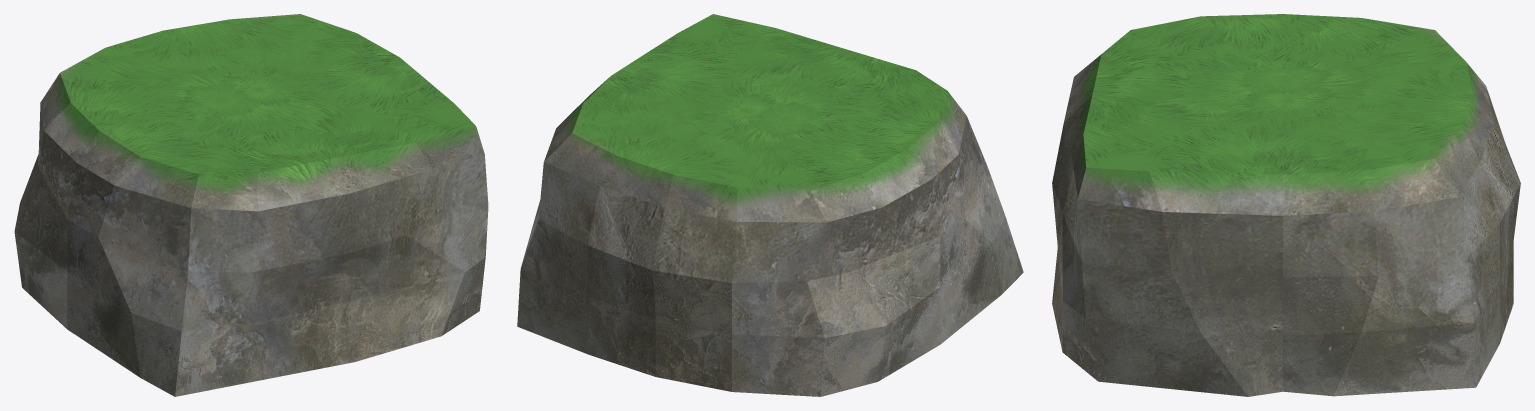
File: 2x2Cliff.fbx
3 renders of one model, left to right at view 1: azimuth 30°, elevation 25°; view 2: azimuth 150°, elevation 25°; view 3: azimuth 270°, elevation 25°, orthographic. The views are drawn at different scales.
Parts seen in each view (by area): view 1: Cube; view 2: Cube; view 3: Cube.
Boxes of the visible parts, x1,y1,x2,y2 form: Cube: [14, 14, 488, 396]; Cube: [517, 14, 1023, 396]; Cube: [1052, 14, 1520, 396].
Size of the model in its own units: 1.97 by 1 by 2.03.
